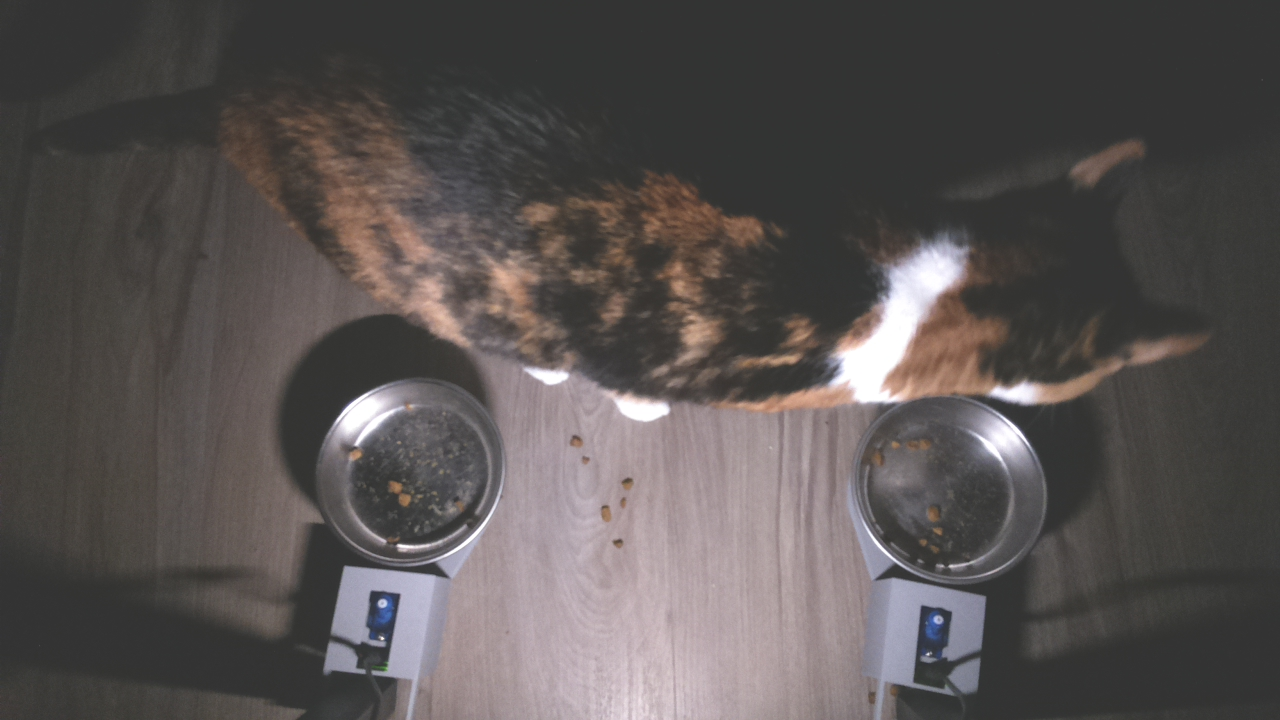bella: (937, 135, 1219, 408)
open_bowl: (843, 392, 1054, 590), (311, 371, 507, 573)
